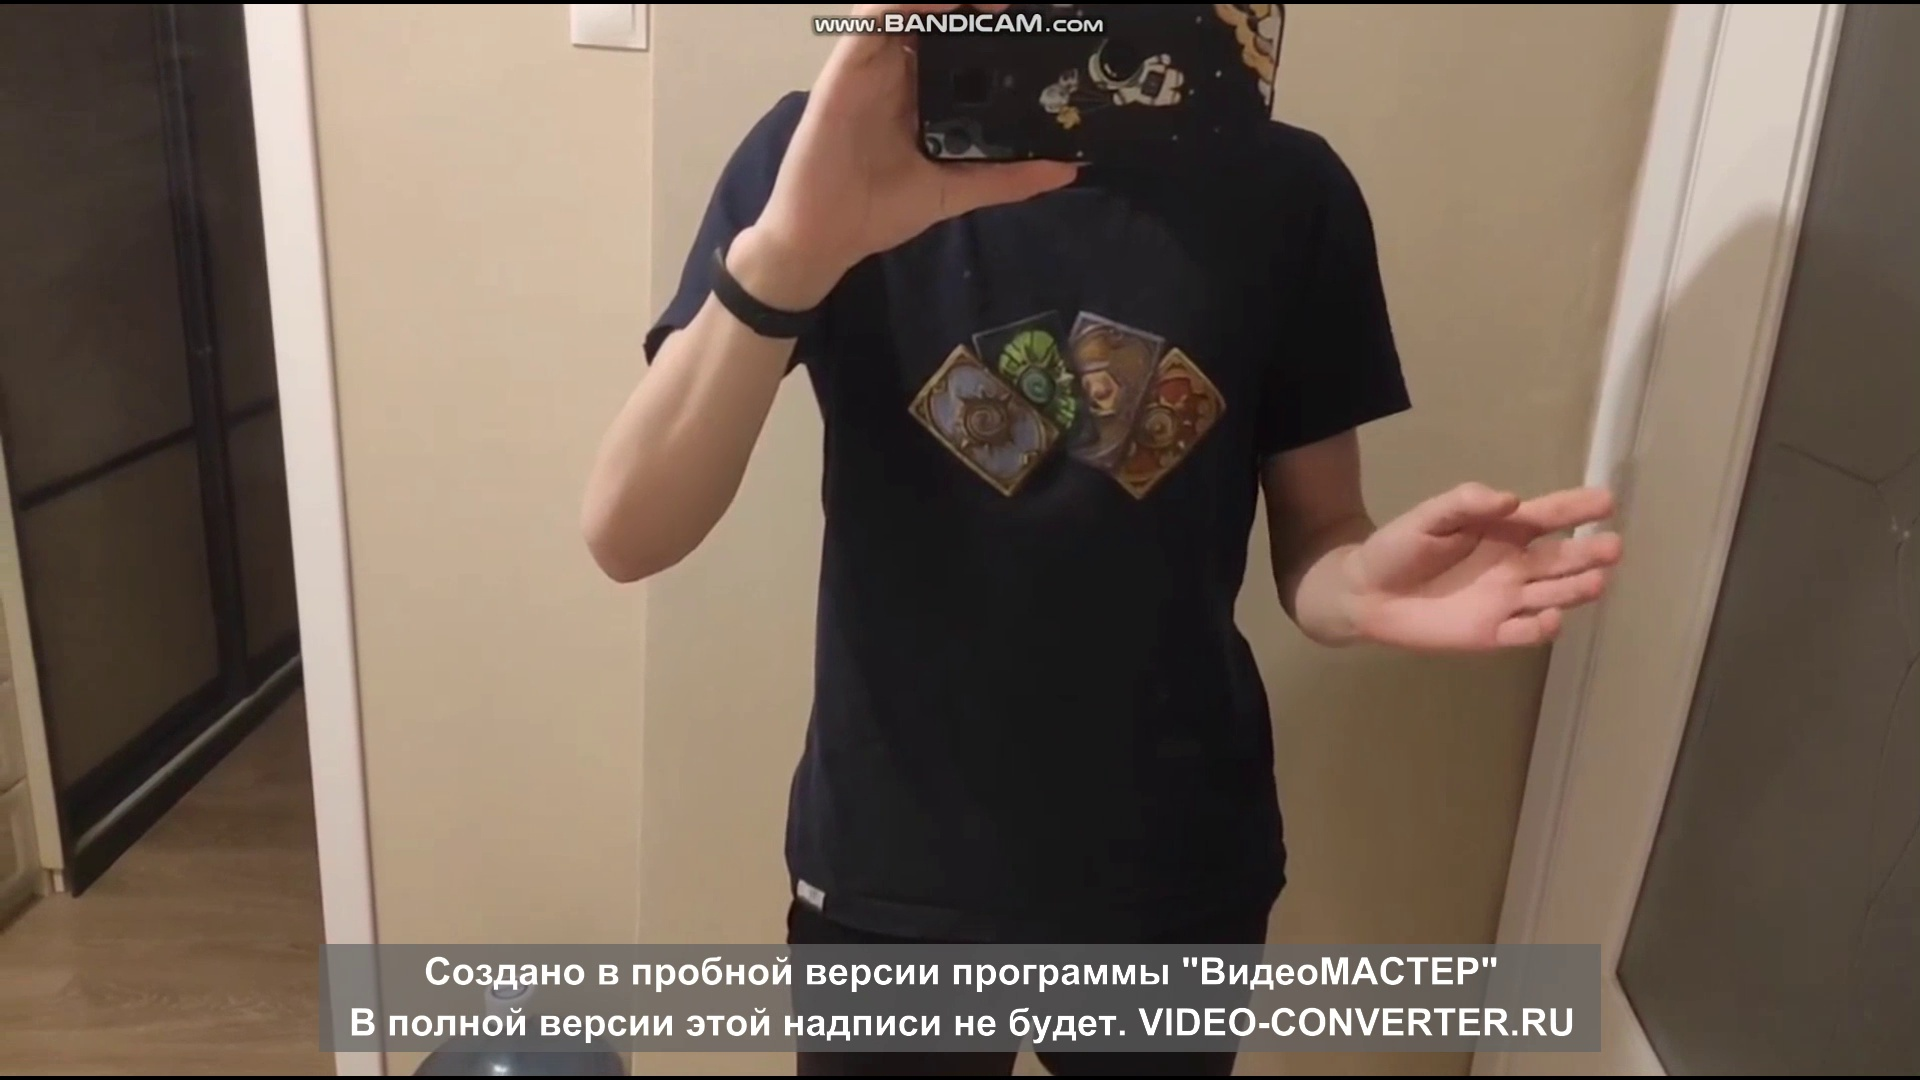Ладонь: (1370, 477, 1621, 651)
